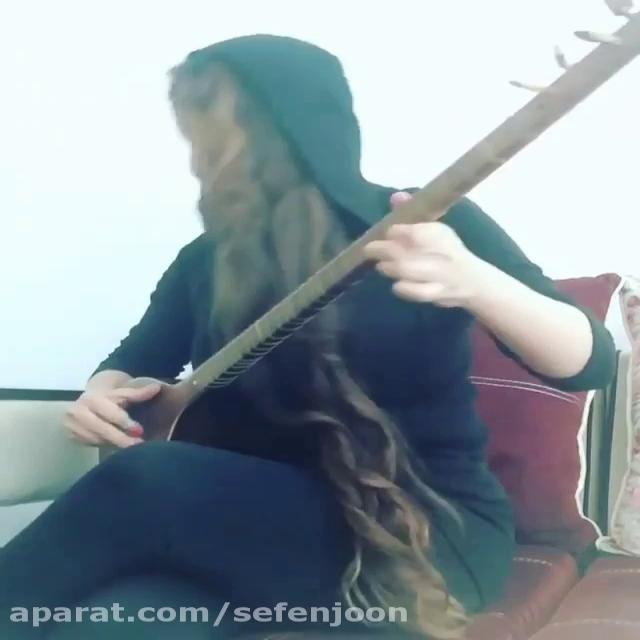Setar: (50, 6, 640, 468)
